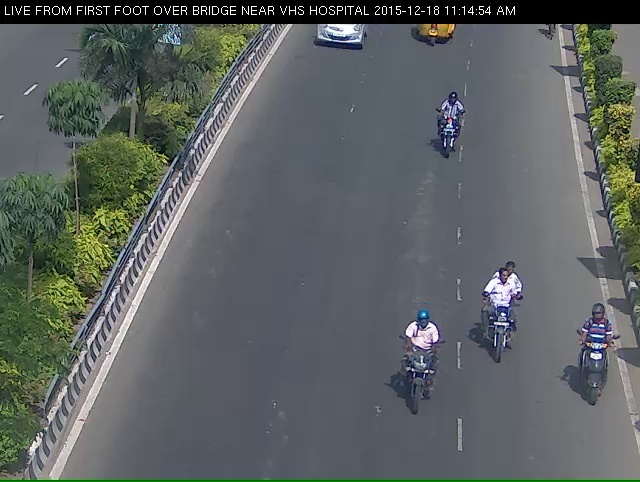Car: (307, 21, 364, 60), (408, 23, 457, 53)
Person: (393, 335, 445, 451), (575, 321, 628, 433), (474, 275, 522, 378), (427, 99, 472, 175)
